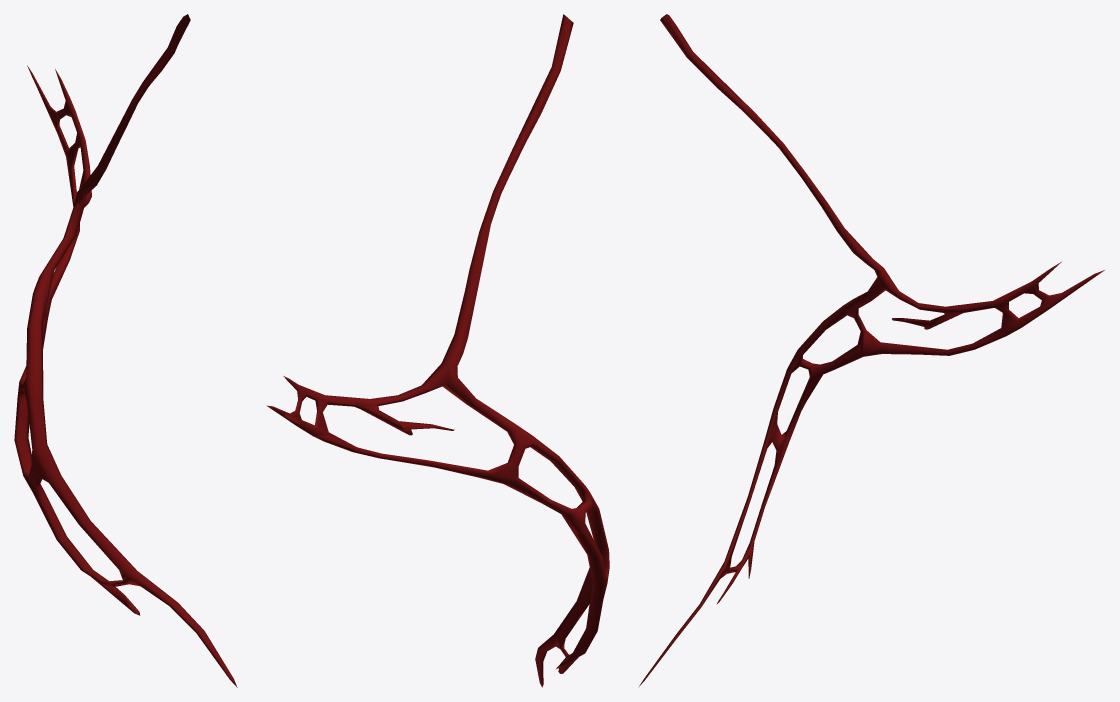
The model's file is R uterina.fbx.
3 views of the same model, side by side, from view 1: azimuth 30°, elevation 25°; view 2: azimuth 150°, elevation 25°; view 3: azimuth 270°, elevation 25° (orthographic). The views are drawn at different scales.
Parts seen in each view (by area): view 1: R uterina, R uterina low; view 2: R uterina, R uterina low; view 3: R uterina, R uterina low.
Boxes of the visible parts, x1,y1,x2,y2 form: R uterina: (14, 15, 237, 687); R uterina low: (14, 14, 190, 612); R uterina: (267, 14, 609, 687); R uterina low: (267, 14, 607, 671); R uterina: (638, 14, 1104, 687); R uterina low: (660, 15, 1101, 592).
Size of the model in its own units: 6.22 by 22.66 by 14.62.
